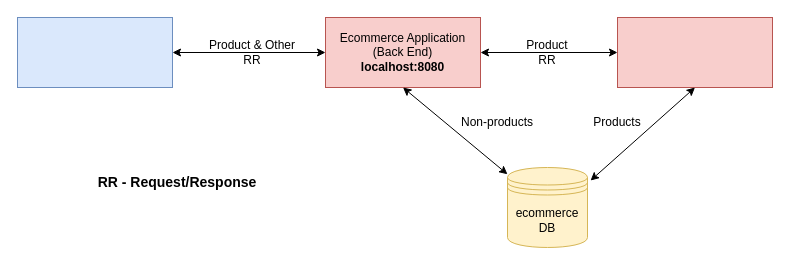
Image size: 790x265. Some labels were removed from this diagram. The shapes that lost their labels are listed below. From the top down, each one's box as (x1, y1, x2, y2) in pixels, then its label:
(16, 16, 172, 88): Angular Front End localhost:4200
(616, 16, 772, 88): Product Application (Microservice) localhost:8081
